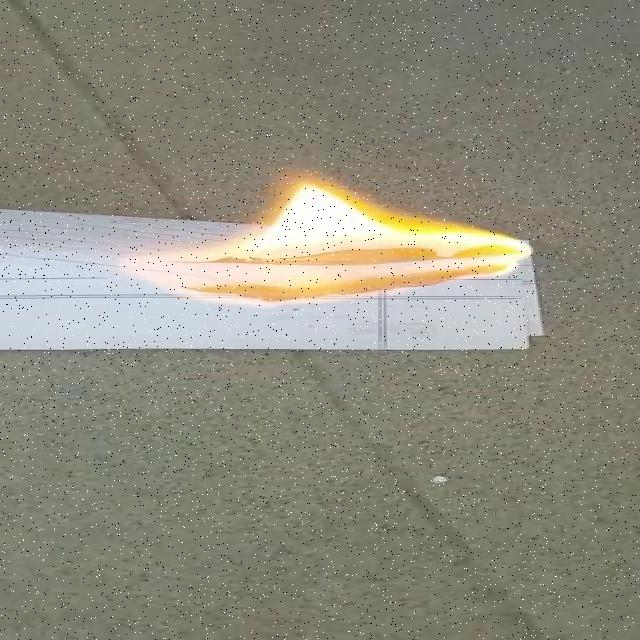fire: (128, 172, 540, 310)
